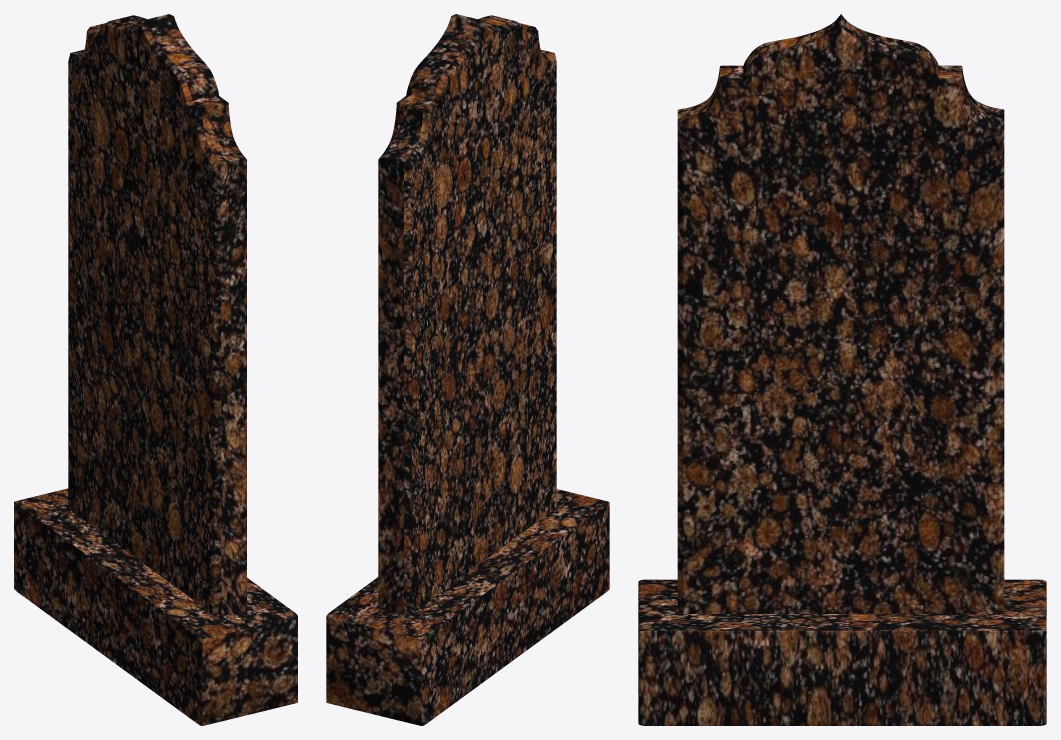
File: Памятник вола Дымовски [granite_u_u] (80).glb
3 renders of one model, left to right at view 1: azimuth 30°, elevation 25°; view 2: azimuth 150°, elevation 25°; view 3: azimuth 270°, elevation 25°, orthographic. The views are drawn at different scales.
Visible parts, largest first — view 1: Cube.055; view 2: Cube.055; view 3: Cube.055.
Part boxes in pixels (x1=…): Cube.055: x1=14, y1=14, x2=297, y2=725; Cube.055: x1=326, y1=14, x2=609, y2=725; Cube.055: x1=638, y1=14, x2=1046, y2=725.
Size of the model in its own units: 0.15 by 0.9206 by 0.5.
1 material, 1 textured.
